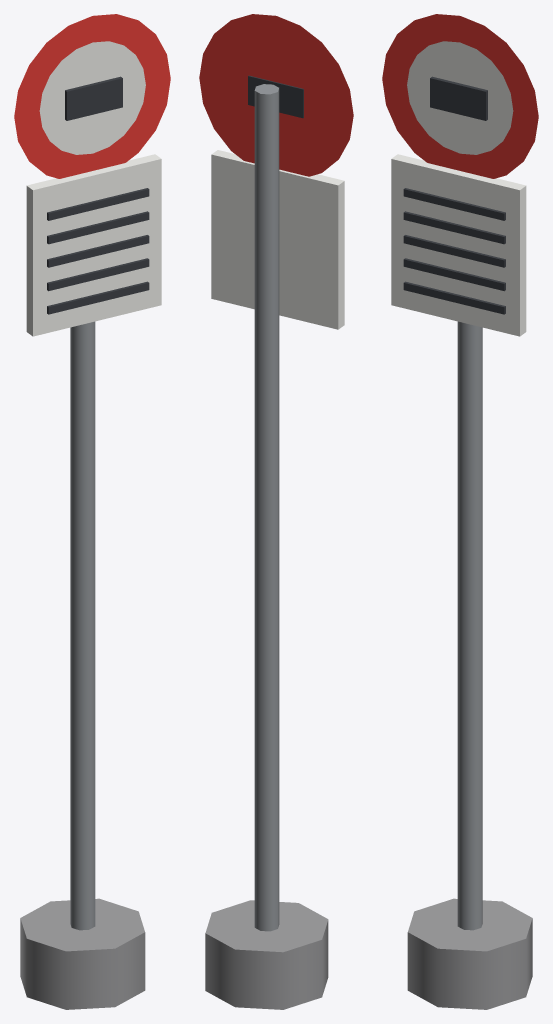
The model's file is prop_street_bus_sign.glb.
The picture shows the model from 3 angles, left to right: view 1: azimuth 30°, elevation 25°; view 2: azimuth 150°, elevation 25°; view 3: azimuth 330°, elevation 25°; orthographic projection.
Visible parts, largest first — view 1: bus_sign_plate, bus_sign_pole; view 2: bus_sign_plate, bus_sign_pole; view 3: bus_sign_plate, bus_sign_pole.
Part boxes in pixels (left/top/right/bottom): bus_sign_plate: left=14, top=14, right=170, bottom=336; bus_sign_pole: left=20, top=321, right=145, bottom=1009; bus_sign_plate: left=199, top=14, right=353, bottom=329; bus_sign_pole: left=205, top=84, right=328, bottom=1009; bus_sign_plate: left=382, top=14, right=538, bottom=336; bus_sign_pole: left=407, top=321, right=532, bottom=1009.
Size of the model in its own units: 0.56 by 3.33 by 0.4.
